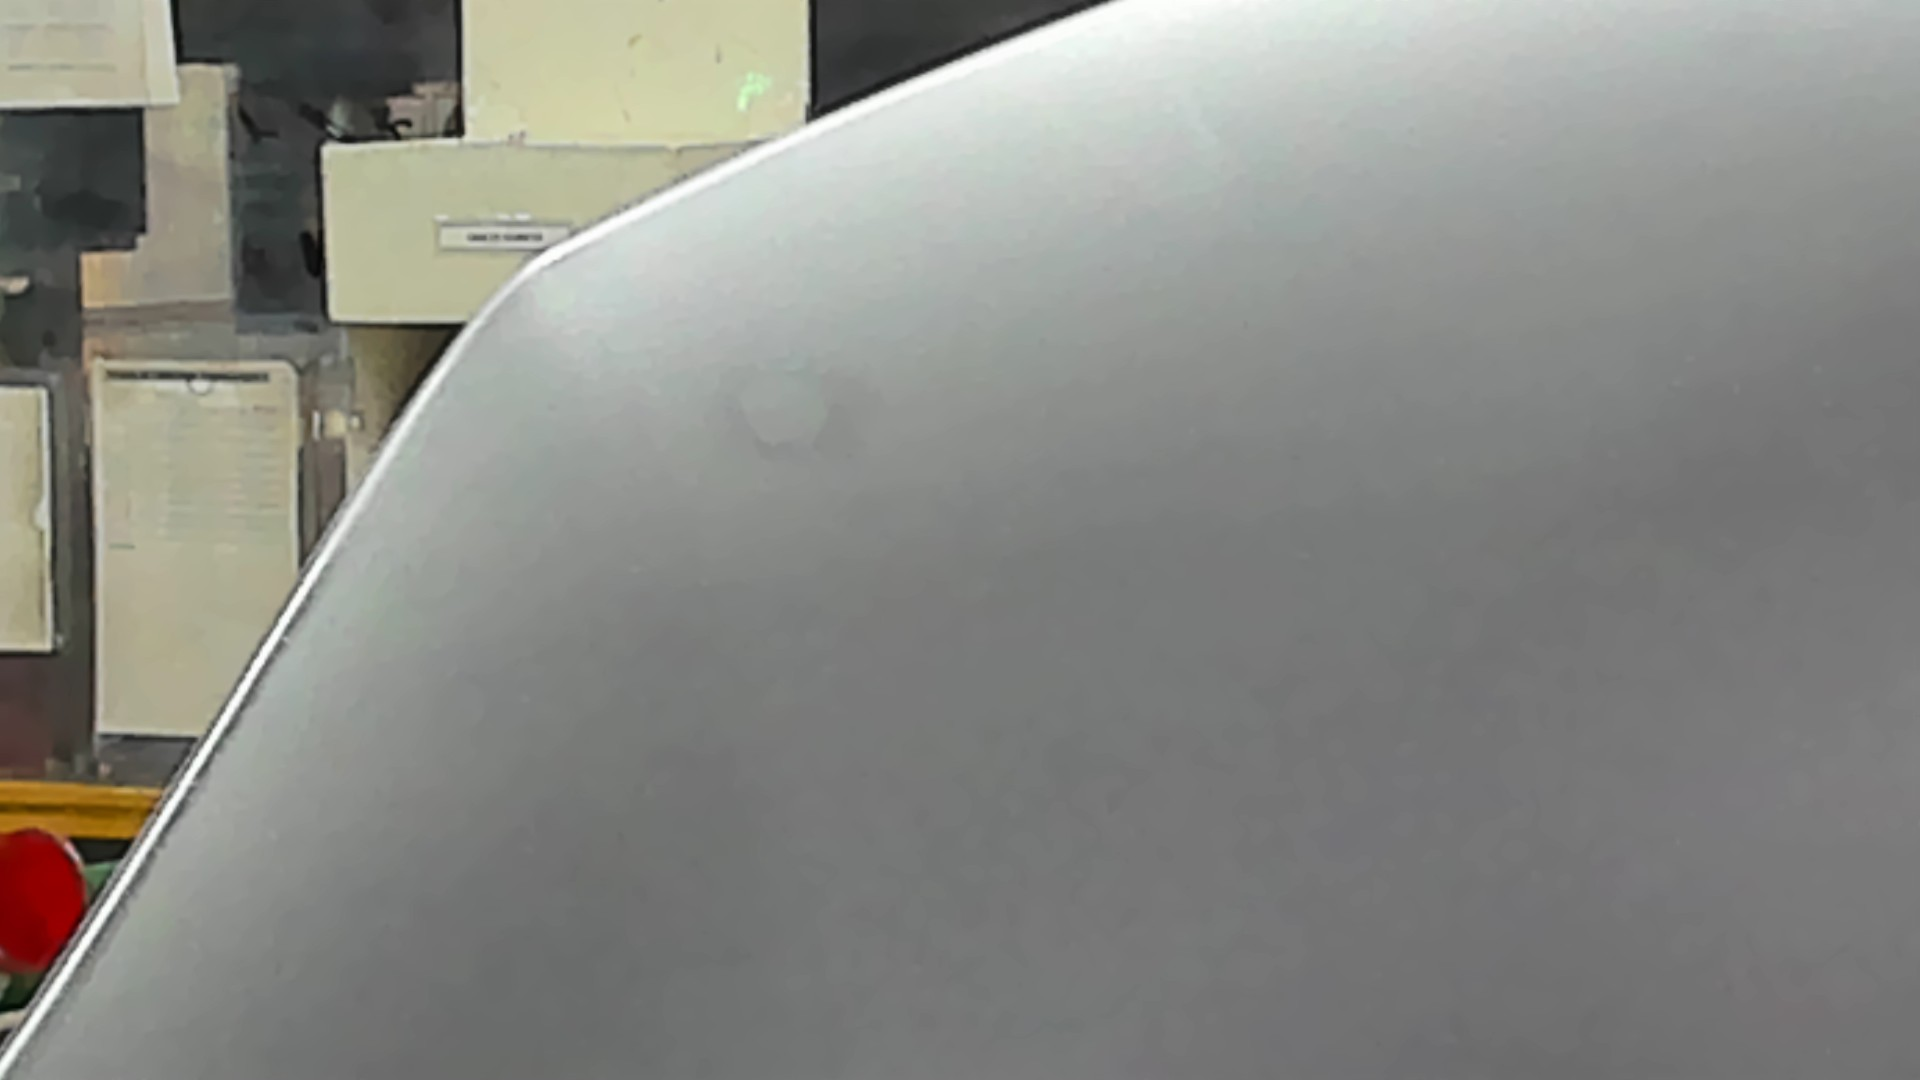capo: (688, 203, 1920, 1080)
